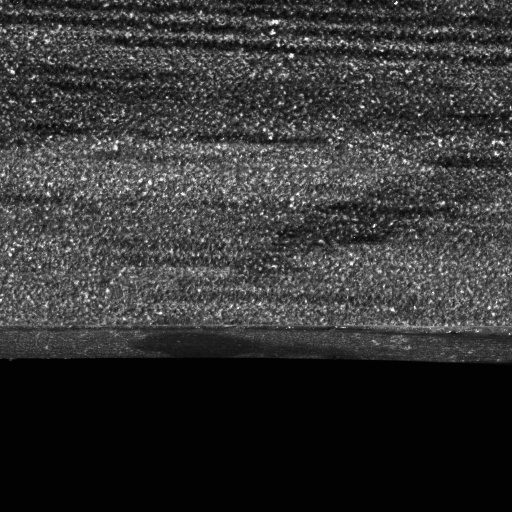kaijiao: (308, 321, 511, 369)
